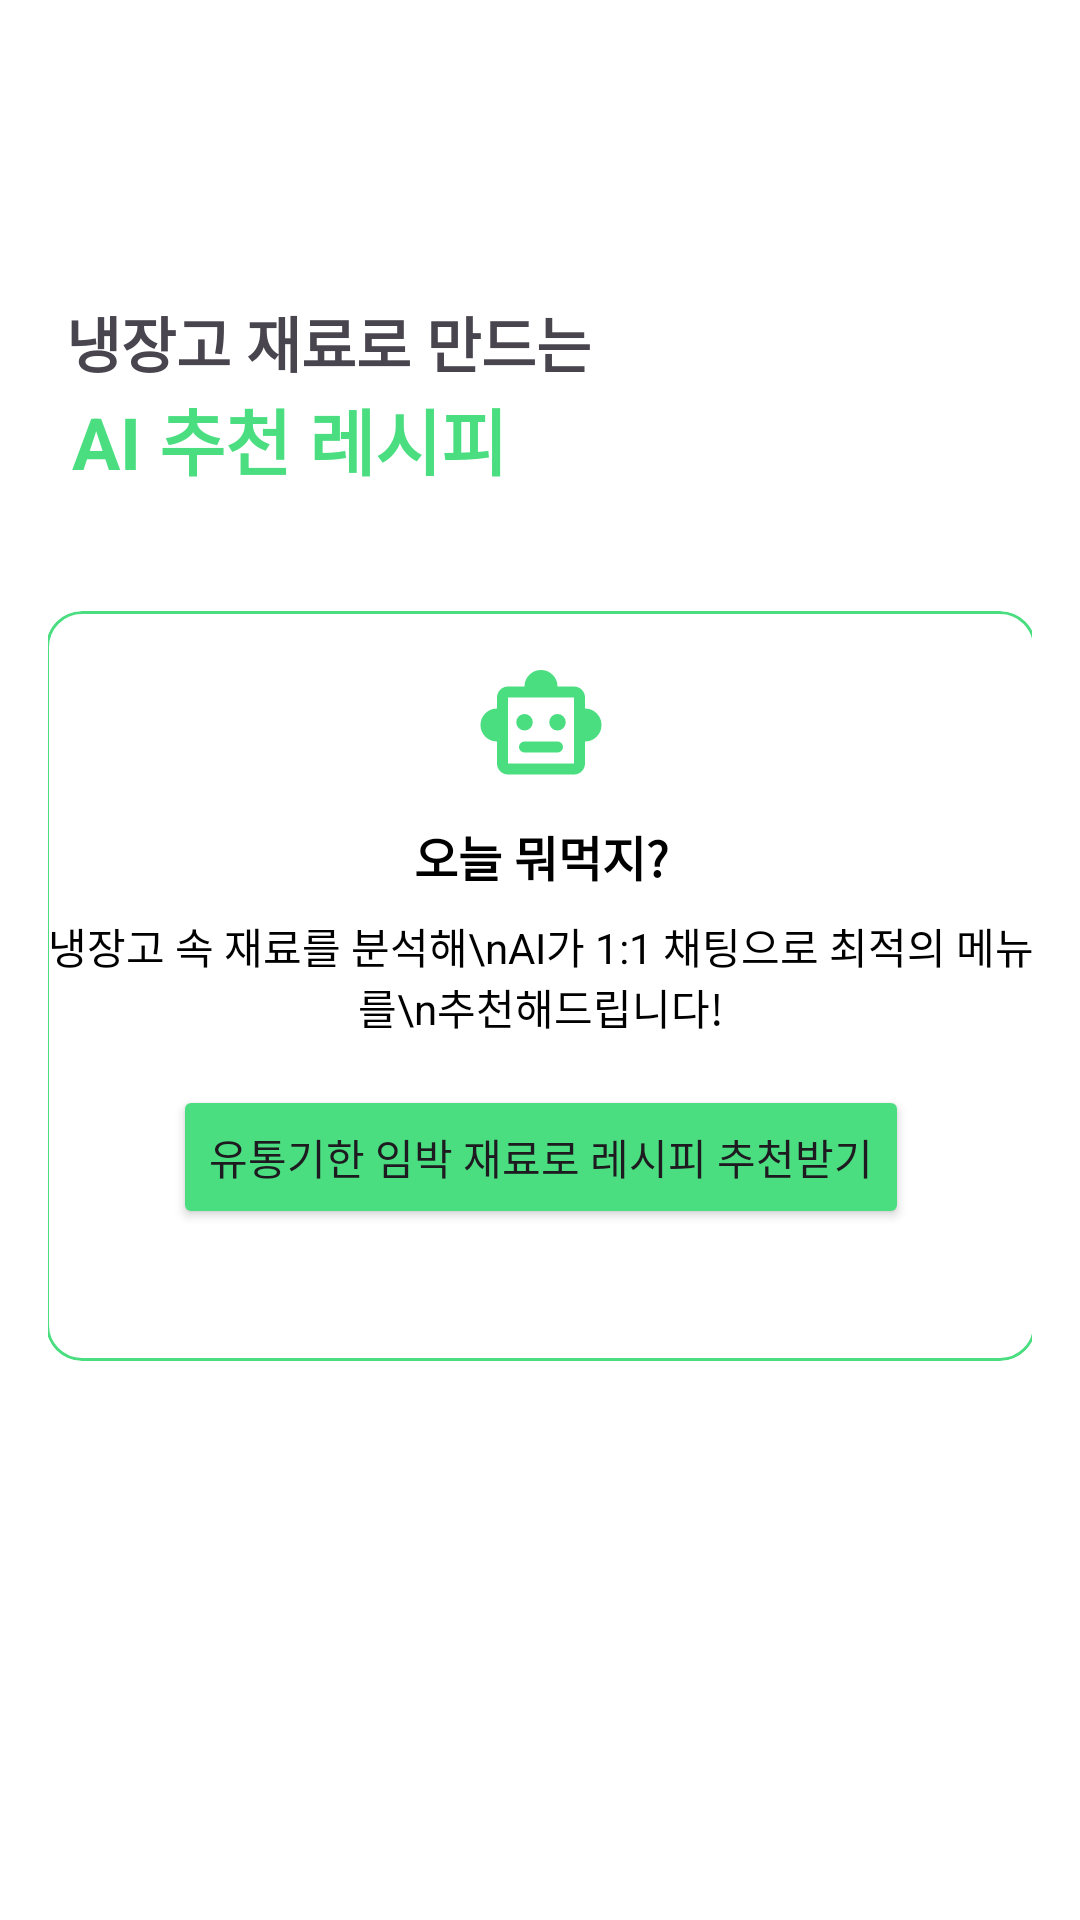

Screen size 1080 x 1920. Icon name, then its center in pixels as (x,y):
smart toy: (541,722)
